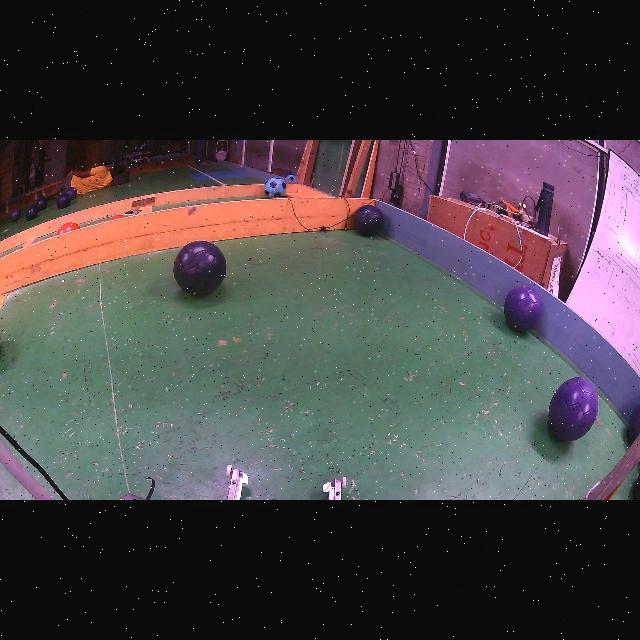B: (174, 241, 226, 295), (354, 205, 384, 236)
P: (549, 378, 599, 441), (504, 286, 542, 331)
